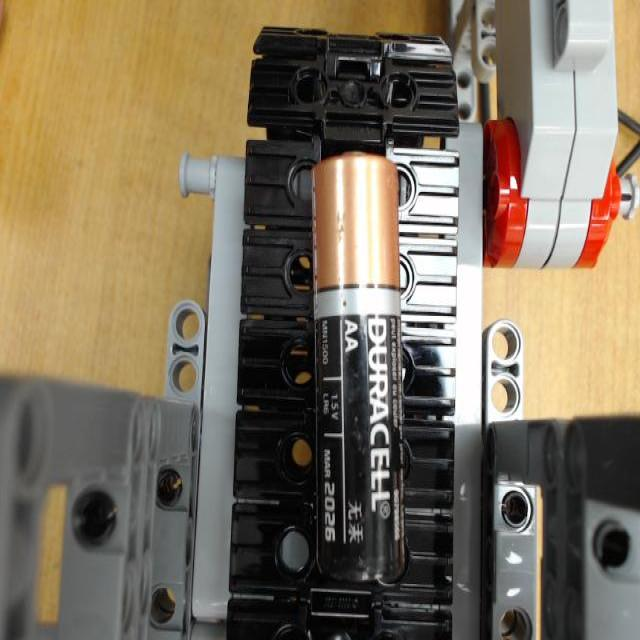AA: (314, 152, 408, 597)
